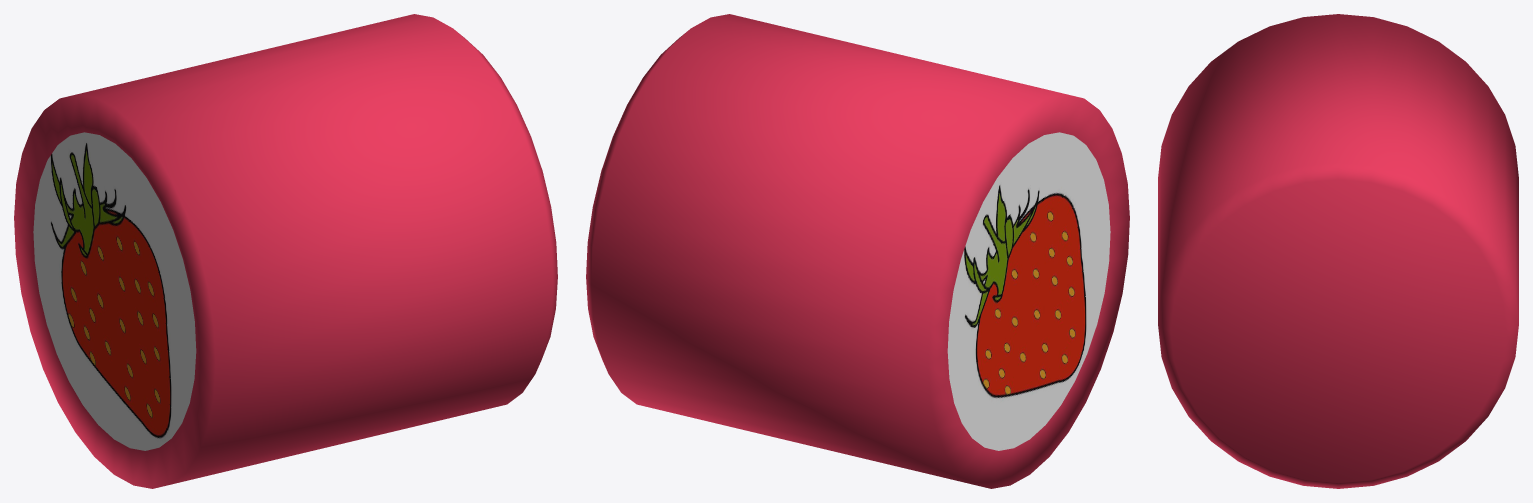
File: strawberry.fbx
The picture shows the model from 3 angles, left to right: view 1: azimuth 30°, elevation 25°; view 2: azimuth 150°, elevation 25°; view 3: azimuth 270°, elevation 25°; orthographic projection. The views are drawn at different scales.
Visible parts, largest first — view 1: Cylinder; view 2: Cylinder; view 3: Cylinder.
Part boxes in pixels (bbox=[...]): Cylinder: bbox=[14, 14, 557, 488]; Cylinder: bbox=[586, 14, 1129, 488]; Cylinder: bbox=[1158, 14, 1518, 488].
Bounding box in the file's own units: 201 × 201 × 200.
2 materials, 1 textured.
